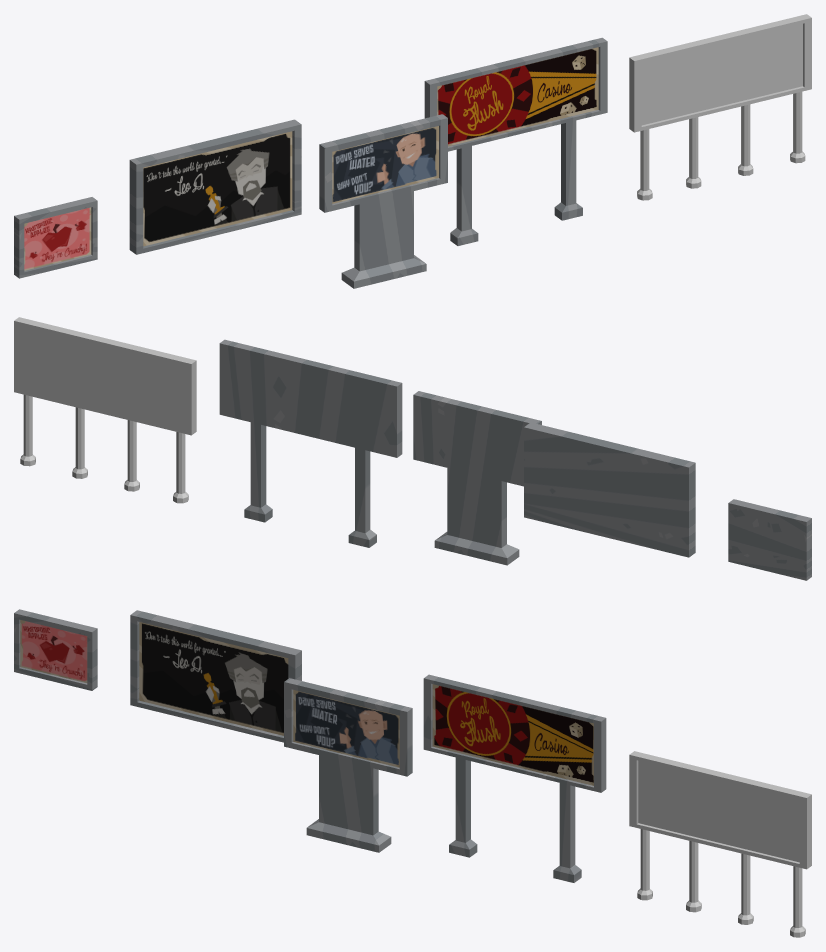
File: Screens.FBX
3 views of the same model, one above another, from view 1: azimuth 30°, elevation 25°; view 2: azimuth 150°, elevation 25°; view 3: azimuth 330°, elevation 25° (orthographic).
Visible parts, largest first — view 1: Cylinder004, Cylinder005, Box002, Box001, Box003; view 2: Box002, Cylinder004, Cylinder005, Box001, Box003; view 3: Box002, Cylinder004, Cylinder005, Box001, Box003.
Part boxes in pixels (left/top/right/bottom): Cylinder004: left=629, top=14, right=811, bottom=200; Cylinder005: left=129, top=119, right=301, bottom=254; Box002: left=424, top=37, right=607, bottom=245; Box001: left=319, top=114, right=447, bottom=288; Box003: left=14, top=197, right=97, bottom=278; Box002: left=219, top=339, right=402, bottom=547; Cylinder004: left=14, top=317, right=196, bottom=503; Cylinder005: left=524, top=422, right=695, bottom=557; Box001: left=413, top=391, right=541, bottom=565; Box003: left=728, top=499, right=811, bottom=580; Box002: left=423, top=674, right=606, bottom=882; Cylinder004: left=629, top=751, right=811, bottom=937; Cylinder005: left=130, top=610, right=301, bottom=742; Box001: left=284, top=678, right=412, bottom=852; Box003: left=14, top=609, right=97, bottom=690.
Bounding box in the file's own units: 779 × 158 × 47.56.
